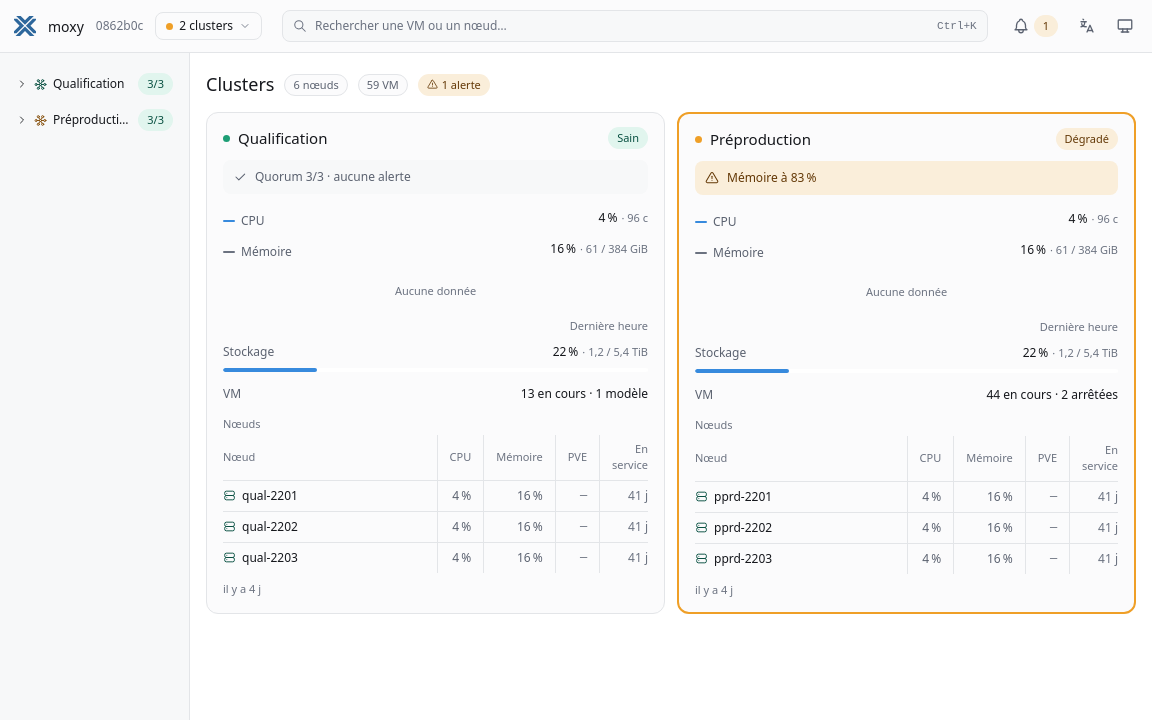
Test case: the global search › clears the query on Escape before giving up the focus
Type "pprd" into the search field named "Recherche globale" at coordinates (622, 26), box [315,17,929,35]
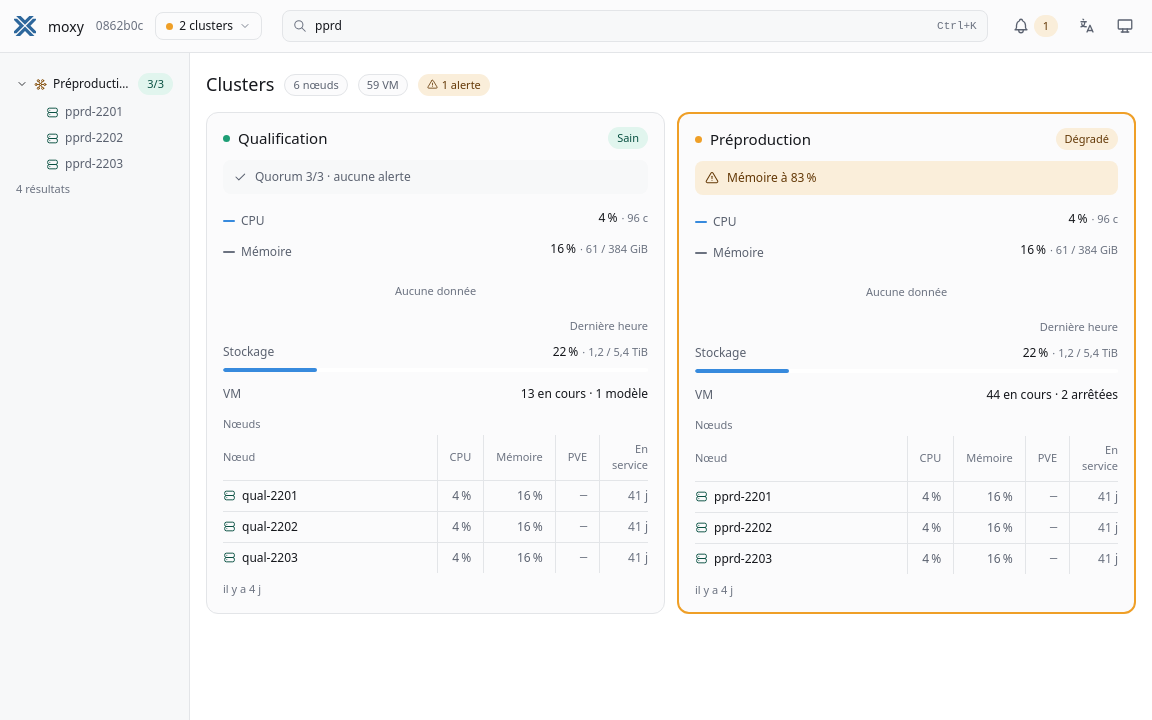
Press Escape in the search field named "Recherche globale", box [315,17,929,35]
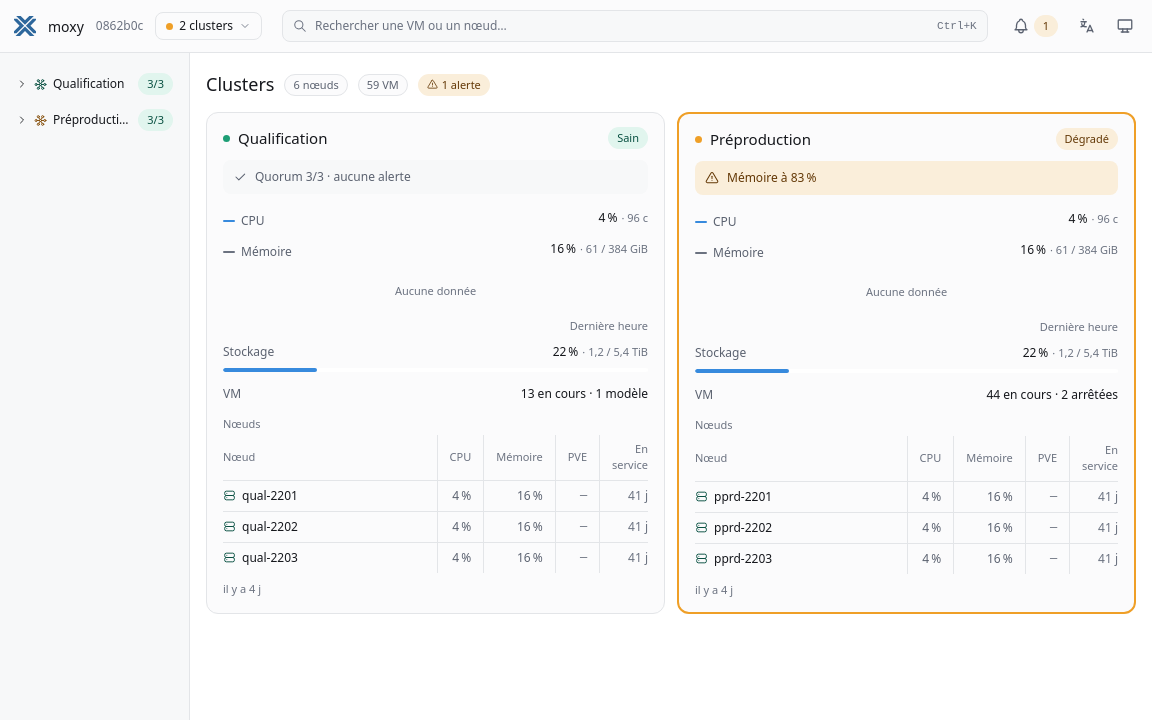
Expected: the search field named "Recherche globale" is empty, [315,17,929,35]
Expected: the text "Qualification" is shown, [53,75,124,93]
